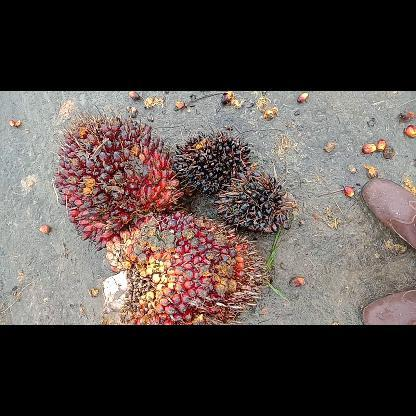TBS abnormal: (212, 168, 300, 236), (172, 126, 256, 196)
TBS masak: (49, 102, 185, 250), (102, 210, 272, 324)
